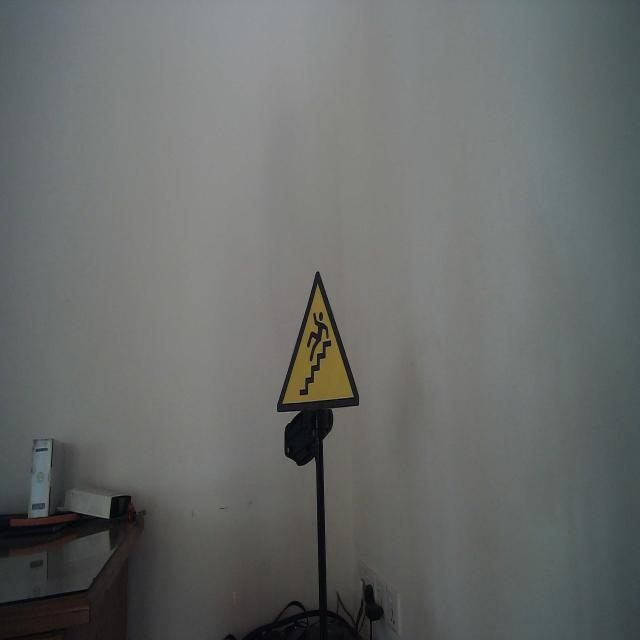stairs: (276, 270, 361, 414)
